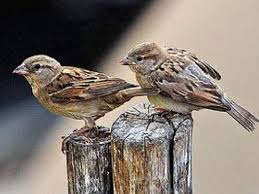hsparrow: (112, 37, 259, 136), (10, 51, 160, 143)
